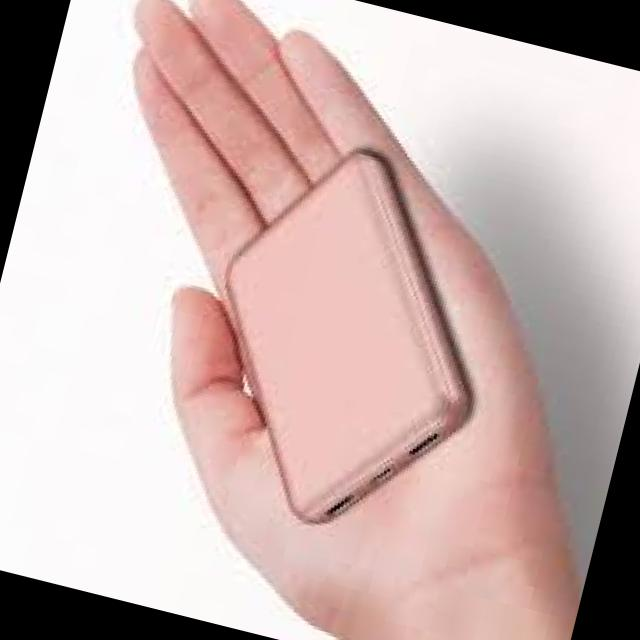portable-charger: (170, 115, 536, 552)
